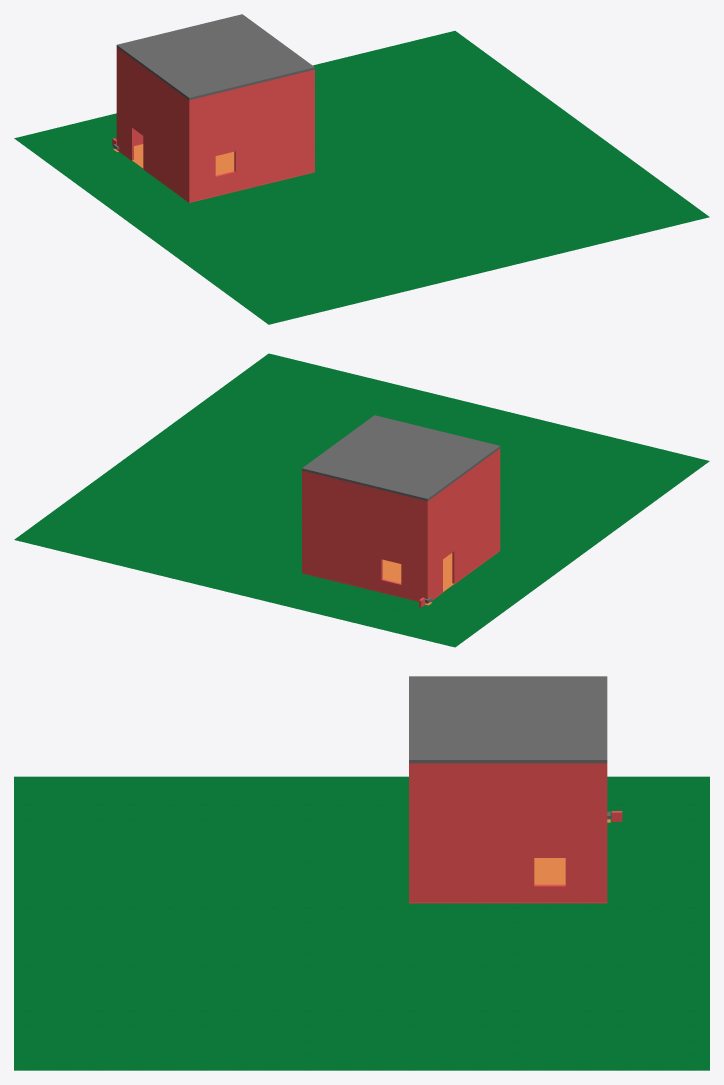
File: house.gltf
3 renders of one model, top to bottom at view 1: azimuth 30°, elevation 25°; view 2: azimuth 150°, elevation 25°; view 3: azimuth 270°, elevation 25°, orthographic. The views are drawn at different scales.
Bounding box in the file's own units: 400 × 92 × 400.
Materials: 4 (4 with a texture image).
